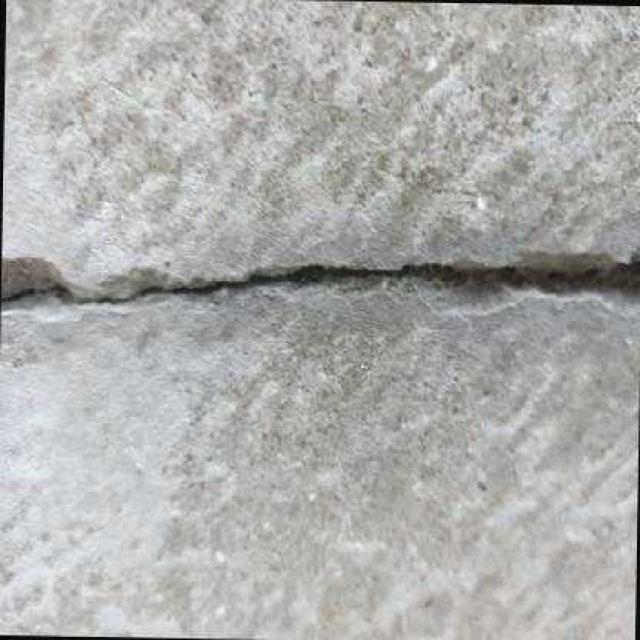D00: (0, 244, 640, 325)
